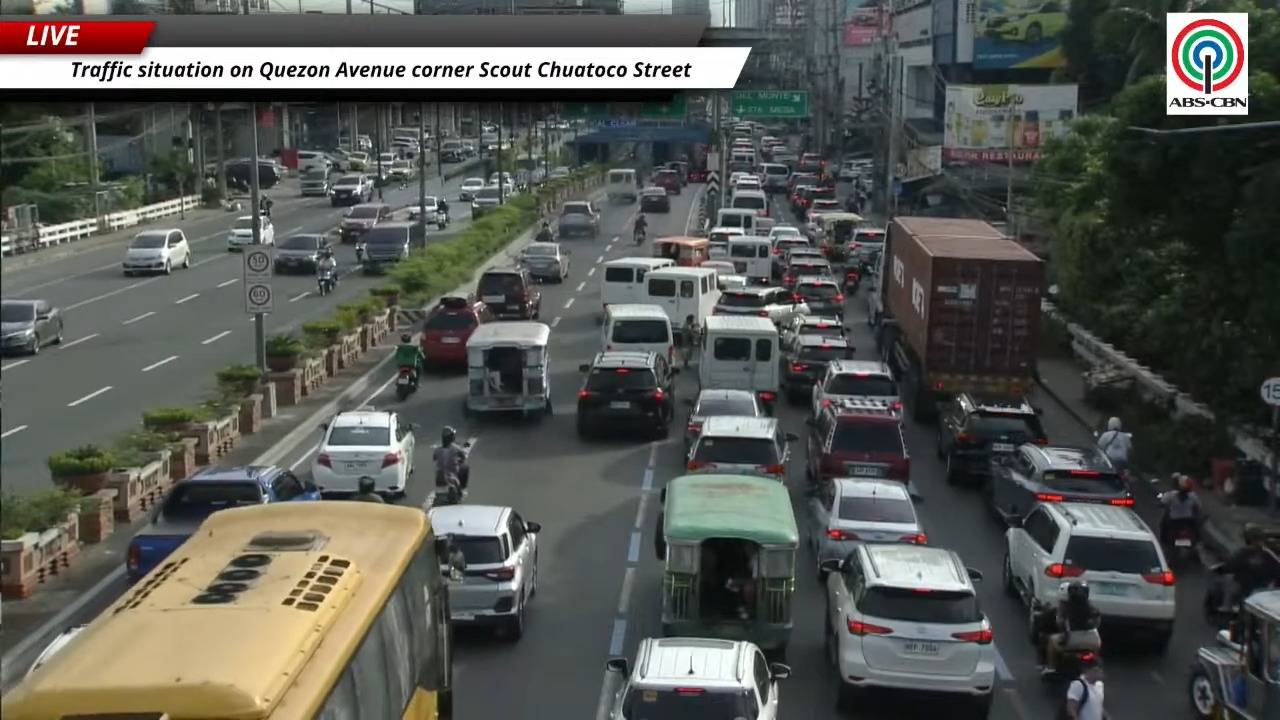bus: (0, 501, 452, 719)
car: (821, 543, 998, 717), (1003, 502, 1175, 653), (125, 466, 320, 582), (428, 504, 540, 640), (606, 637, 789, 719), (808, 478, 927, 581), (986, 443, 1133, 520), (937, 393, 1046, 483), (311, 406, 416, 496), (806, 399, 910, 489), (576, 351, 678, 438), (686, 416, 798, 481), (419, 296, 494, 366), (780, 334, 854, 404), (684, 388, 764, 451), (811, 359, 901, 413), (982, 0, 1067, 44), (712, 286, 808, 323), (0, 299, 62, 354), (477, 266, 541, 319), (361, 222, 423, 274), (122, 229, 191, 275), (28, 625, 87, 675), (274, 233, 331, 273), (771, 235, 822, 279), (793, 276, 844, 320), (518, 242, 569, 283), (339, 203, 391, 242), (782, 253, 834, 290), (780, 315, 847, 342), (227, 215, 273, 251), (557, 201, 600, 238), (777, 238, 825, 268), (792, 185, 837, 217), (330, 173, 373, 206), (848, 228, 887, 264), (470, 185, 508, 218), (788, 175, 816, 219), (806, 197, 843, 225), (299, 168, 330, 196), (761, 162, 789, 192), (653, 169, 684, 195), (226, 158, 253, 187), (408, 196, 438, 222), (639, 187, 670, 212), (798, 153, 825, 180), (787, 172, 817, 195), (768, 225, 806, 243), (439, 140, 467, 163), (486, 172, 515, 194), (733, 175, 764, 194), (347, 146, 369, 171), (390, 158, 415, 179), (837, 160, 860, 181), (548, 166, 571, 179), (462, 141, 477, 156)
motorcycle: (1202, 563, 1239, 628), (1161, 510, 1199, 569), (1041, 645, 1098, 683), (435, 442, 471, 494), (1166, 523, 1199, 569), (430, 475, 463, 506), (395, 367, 417, 400), (842, 270, 861, 295), (318, 269, 335, 296), (435, 210, 450, 229), (355, 241, 365, 262), (633, 228, 646, 244)
truck: (870, 216, 1045, 421)
